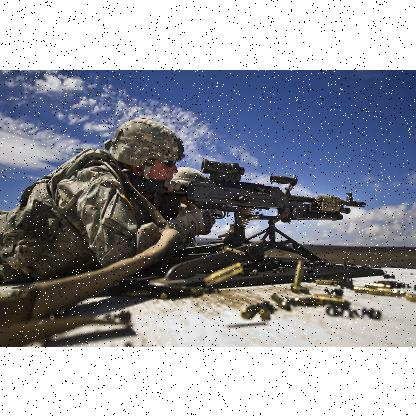gun: (122, 157, 366, 276)
